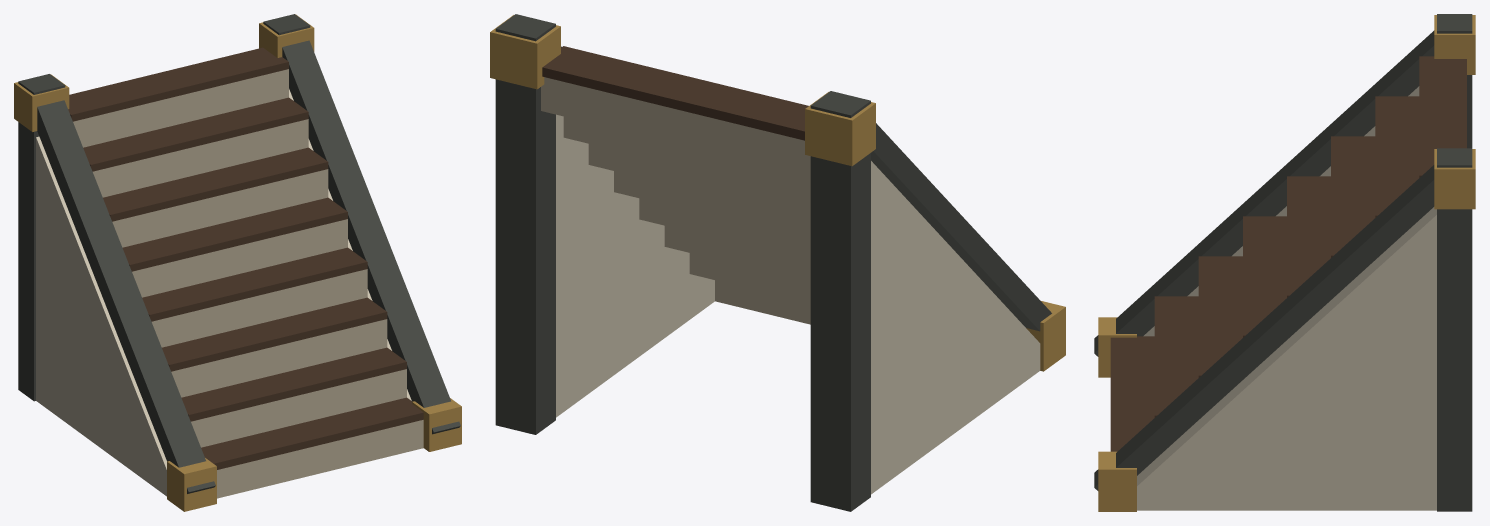
File: stairs.glb
3 renders of one model, left to right at view 1: azimuth 30°, elevation 25°; view 2: azimuth 150°, elevation 25°; view 3: azimuth 270°, elevation 25°, orthographic. The views are drawn at different scales.
Parts seen in each view (by area): view 1: stairs; view 2: stairs; view 3: stairs.
Boxes of the visible parts, x1=… form: stairs: x1=14, y1=14, x2=461, y2=511; stairs: x1=490, y1=14, x2=1065, y2=511; stairs: x1=1094, y1=14, x2=1475, y2=511.
Bounding box in the file's own units: 2.07 × 2.16 × 2.16.
